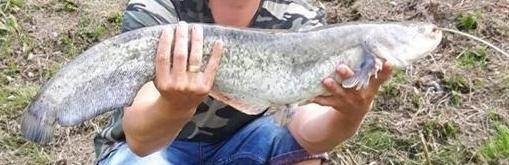Catfish: (22, 19, 444, 146)
